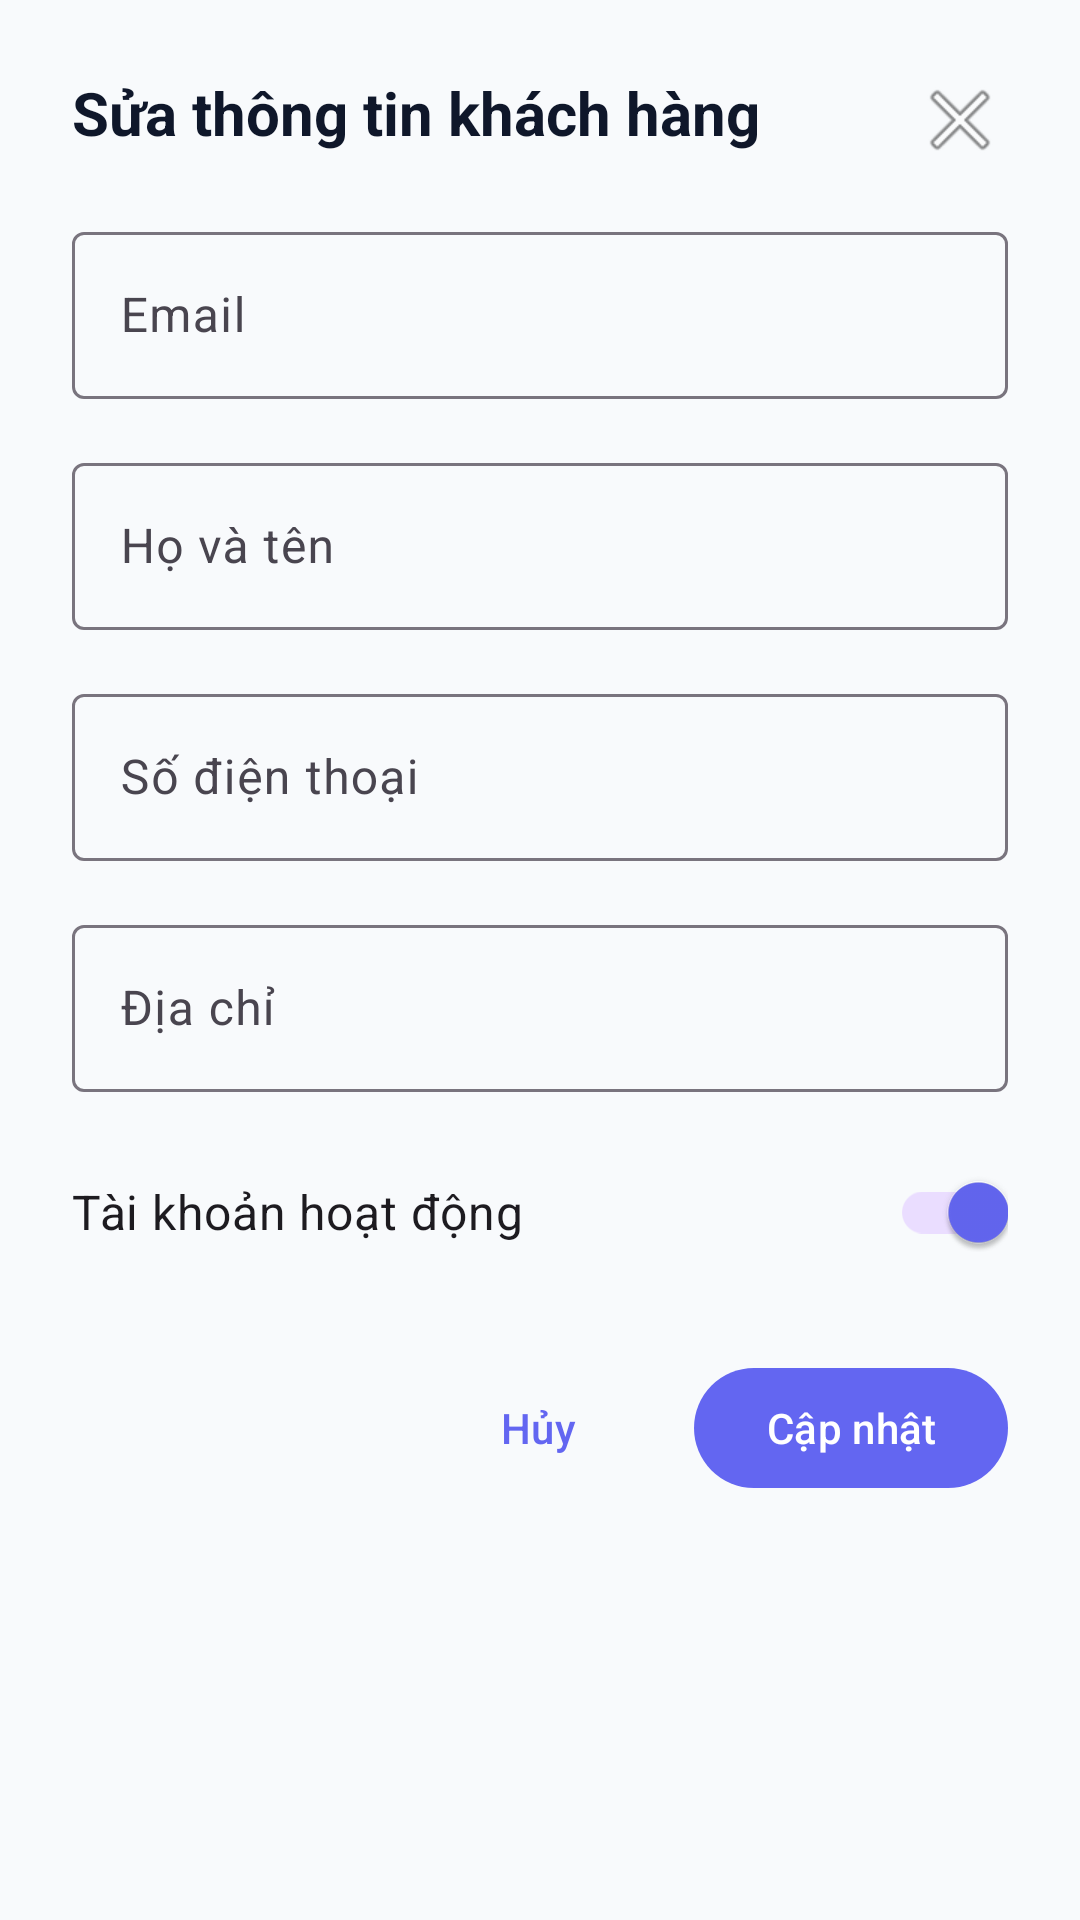

Where to tap for icons on this 1080w x 1920h app screen, as point (x, y):
Đóng: point (960, 120)
